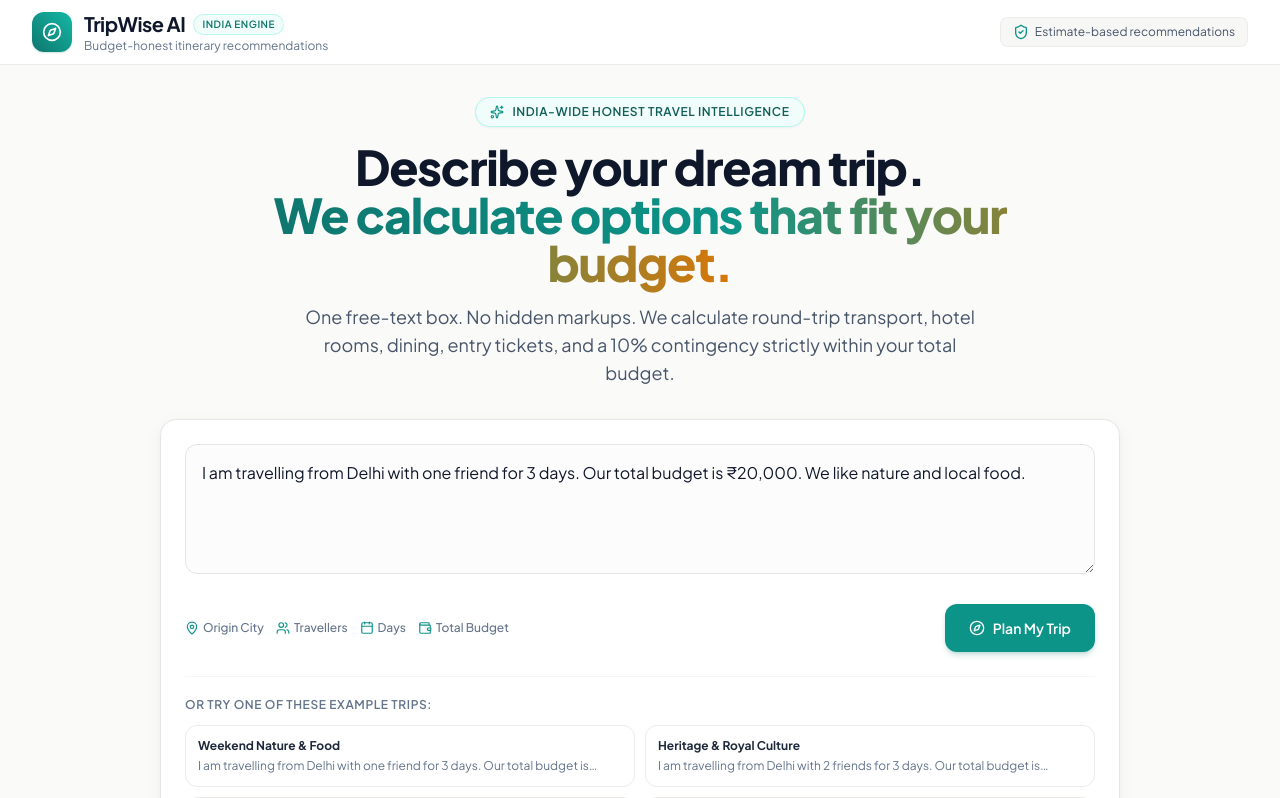
it: TripWise AI Frontend Application › handles loading state during text submission
The width and height of the screenshot is (1280, 798).
Click the button "Plan My Trip": click(1020, 628) top-left (945, 604), bottom-right (1095, 652)
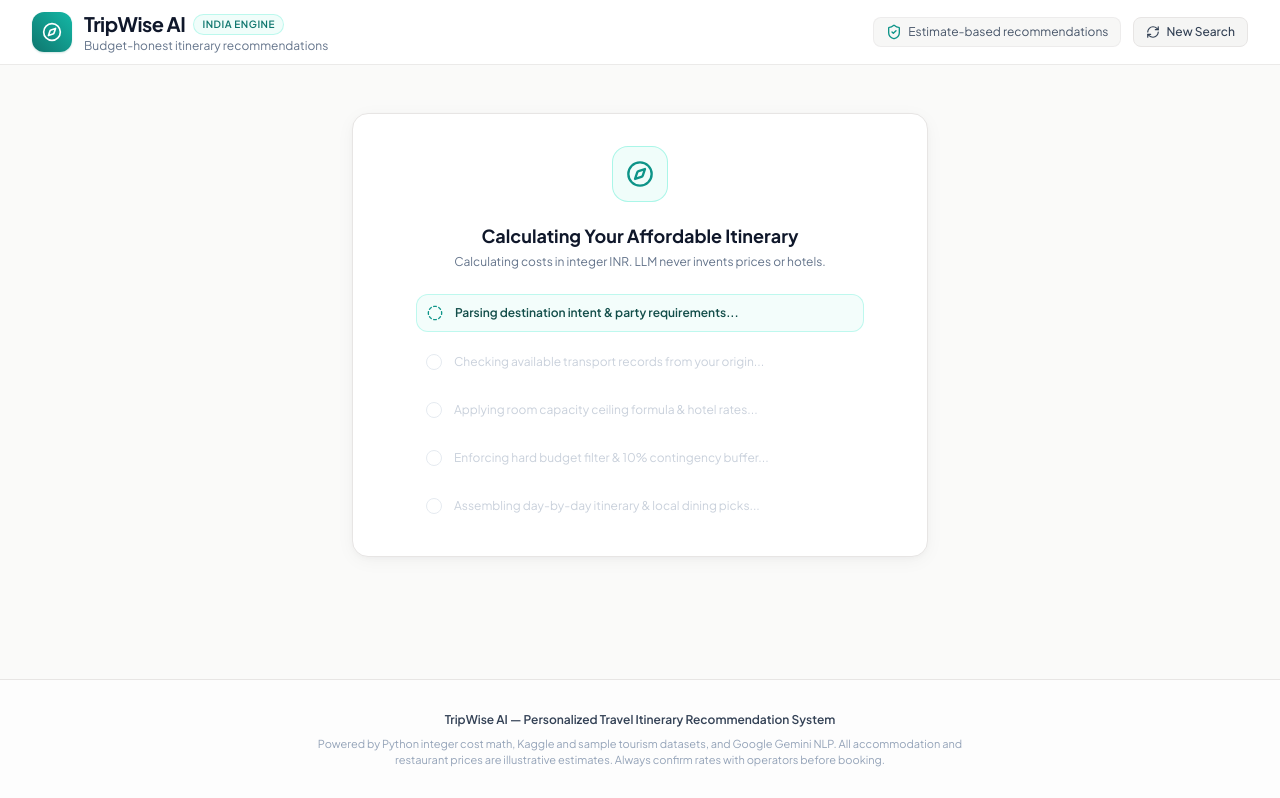
expect the heading "Calculating Your Affordable Itinerary" is shown: met, box top-left (482, 224), bottom-right (798, 247)
